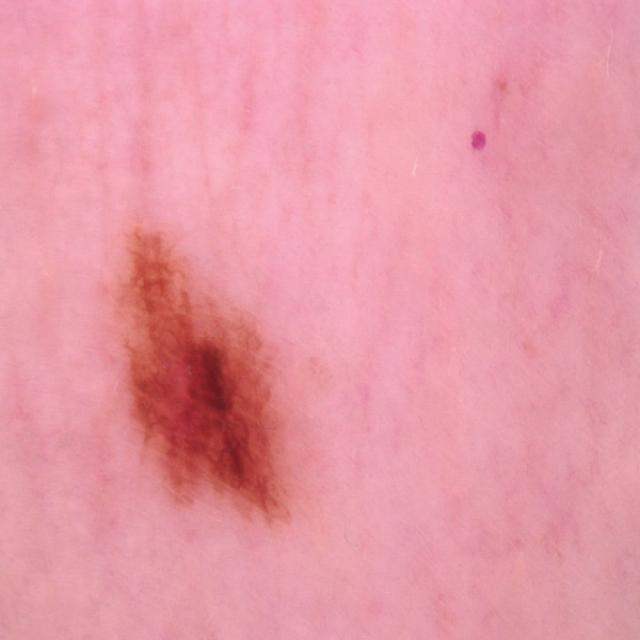NV: (111, 223, 294, 526)
